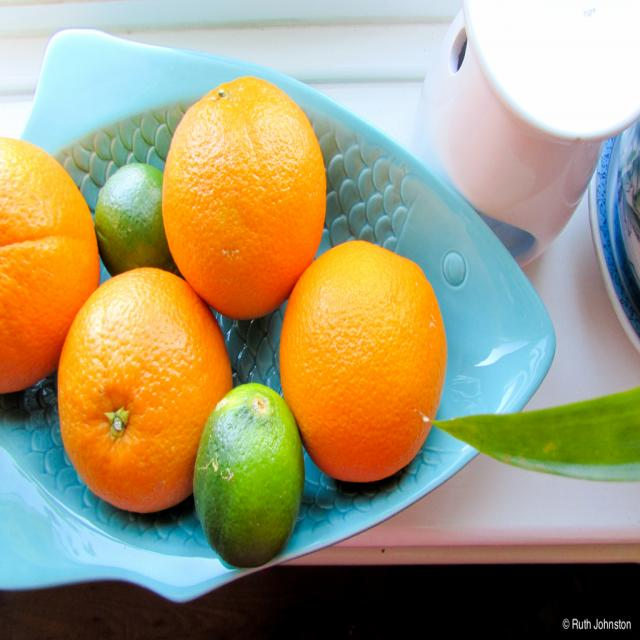Orange: (60, 267, 232, 518), (167, 68, 327, 318), (282, 247, 443, 470), (0, 138, 100, 389)
